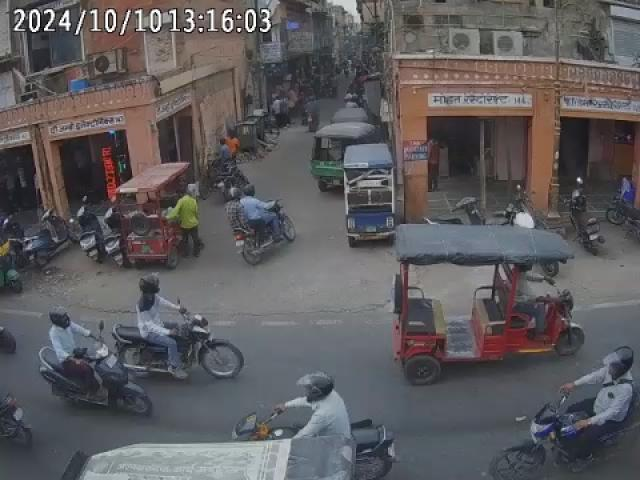auto: (393, 223, 583, 381)
helmet: (296, 371, 336, 400), (600, 346, 634, 378), (136, 271, 162, 296), (46, 306, 73, 328), (242, 186, 260, 198), (228, 184, 240, 200)
motorbike-rider: (490, 344, 640, 476), (232, 370, 395, 479), (109, 272, 246, 384), (227, 184, 296, 265), (210, 136, 247, 198)
person: (168, 185, 202, 260)
scooty-rider: (35, 306, 153, 414)
